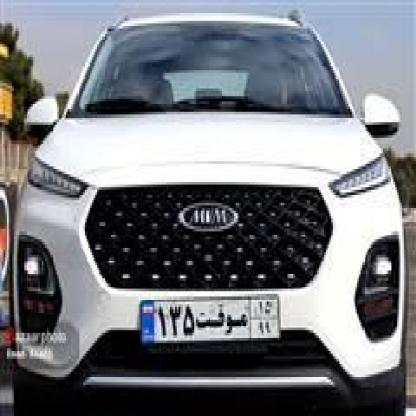Car: (0, 0, 413, 411)
